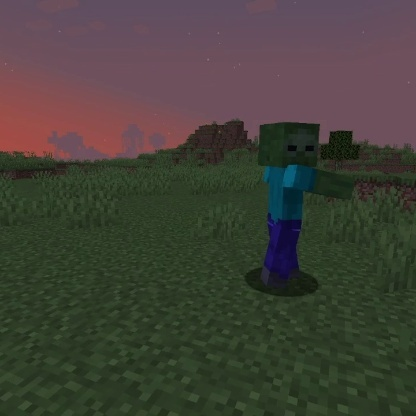zombie: (252, 120, 359, 292)
